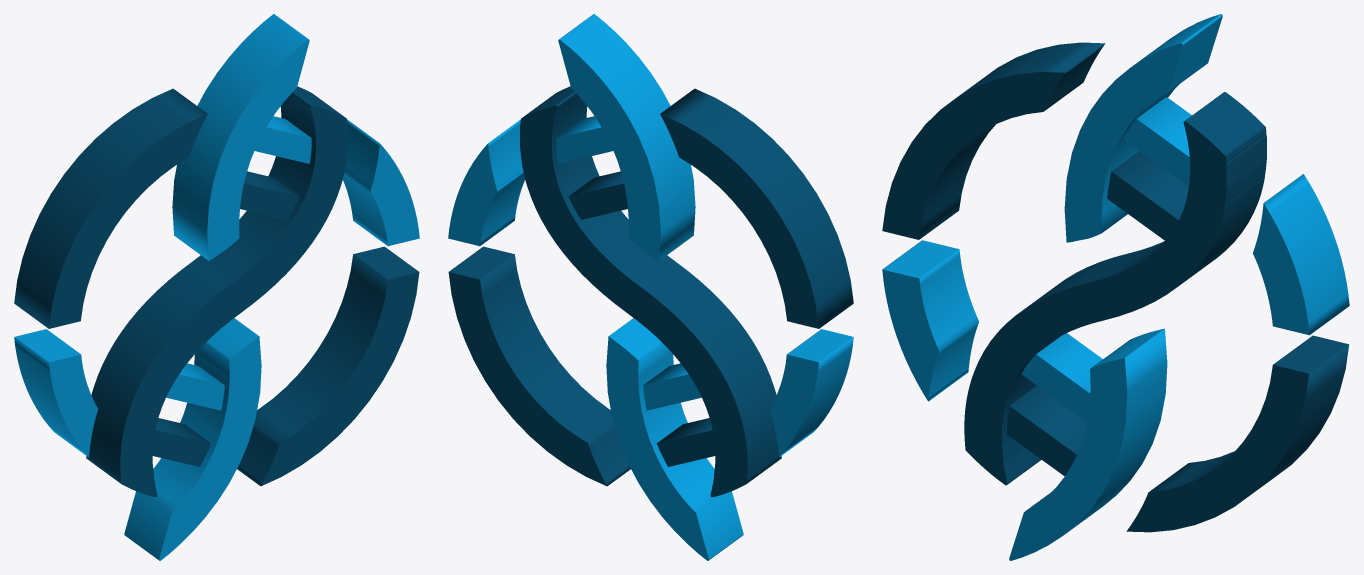
File: Oncodna.glb
3 renders of one model, left to right at view 1: azimuth 30°, elevation 25°; view 2: azimuth 150°, elevation 25°; view 3: azimuth 330°, elevation 25°, orthographic. The views are drawn at different scales.
Visible parts, largest first — view 1: Curve.005, Curve, Curve.008, Curve.006, Curve.007, Curve.010, Curve.009, Curve.004, Curve.002, Curve.001, Curve.003; view 2: Curve.005, Curve, Curve.008, Curve.006, Curve.007, Curve.010, Curve.009, Curve.004, Curve.002, Curve.001, Curve.003; view 3: Curve.005, Curve, Curve.008, Curve.007, Curve.006, Curve.010, Curve.009, Curve.002, Curve.004, Curve.003, Curve.001.
Part boxes in pixels (<box>): Curve.005: <box>86,86,347,497</box>; Curve: <box>14,88,207,328</box>; Curve.008: <box>237,246,419,486</box>; Curve.006: <box>172,14,309,260</box>; Curve.007: <box>124,318,261,560</box>; Curve.010: <box>14,329,98,457</box>; Curve.009: <box>342,119,419,246</box>; Curve.004: <box>152,418,210,466</box>; Curve.002: <box>240,171,299,219</box>; Curve.001: <box>254,116,311,163</box>; Curve.003: <box>166,363,224,410</box>; Curve.005: <box>520,86,781,497</box>; Curve: <box>660,88,853,328</box>; Curve.008: <box>448,246,630,486</box>; Curve.006: <box>558,14,695,260</box>; Curve.007: <box>606,318,743,560</box>; Curve.010: <box>769,329,853,457</box>; Curve.009: <box>448,119,525,246</box>; Curve.004: <box>657,418,715,466</box>; Curve.002: <box>568,171,627,219</box>; Curve.001: <box>556,116,613,163</box>; Curve.003: <box>643,363,701,410</box>; Curve.005: <box>964,92,1266,485</box>; Curve: <box>882,42,1105,239</box>; Curve.008: <box>1126,335,1349,532</box>; Curve.007: <box>1009,328,1167,560</box>; Curve.006: <box>1064,14,1222,242</box>; Curve.010: <box>882,240,978,401</box>; Curve.009: <box>1253,174,1349,335</box>; Curve.002: <box>1107,151,1188,240</box>; Curve.004: <box>1007,386,1086,476</box>; Curve.003: <box>1021,333,1102,421</box>; Curve.001: <box>1123,97,1191,186</box>.
Bounding box in the file's own units: 0.4922 × 0.6154 × 0.08.
